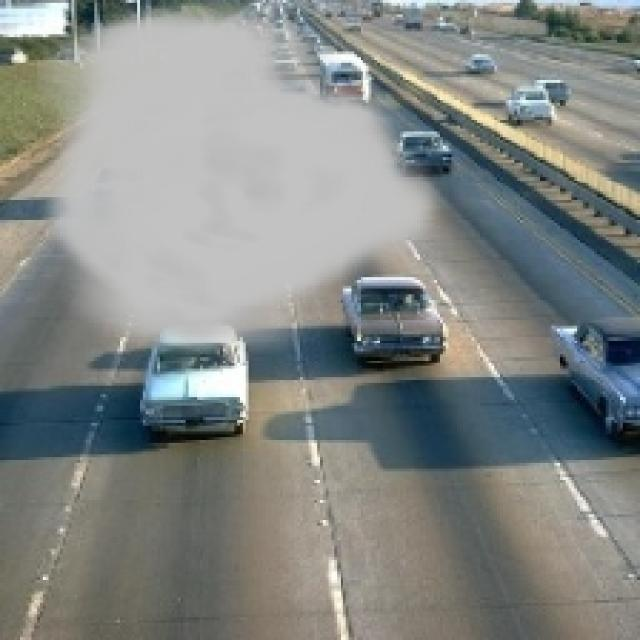Smoke: (37, 0, 449, 366)
